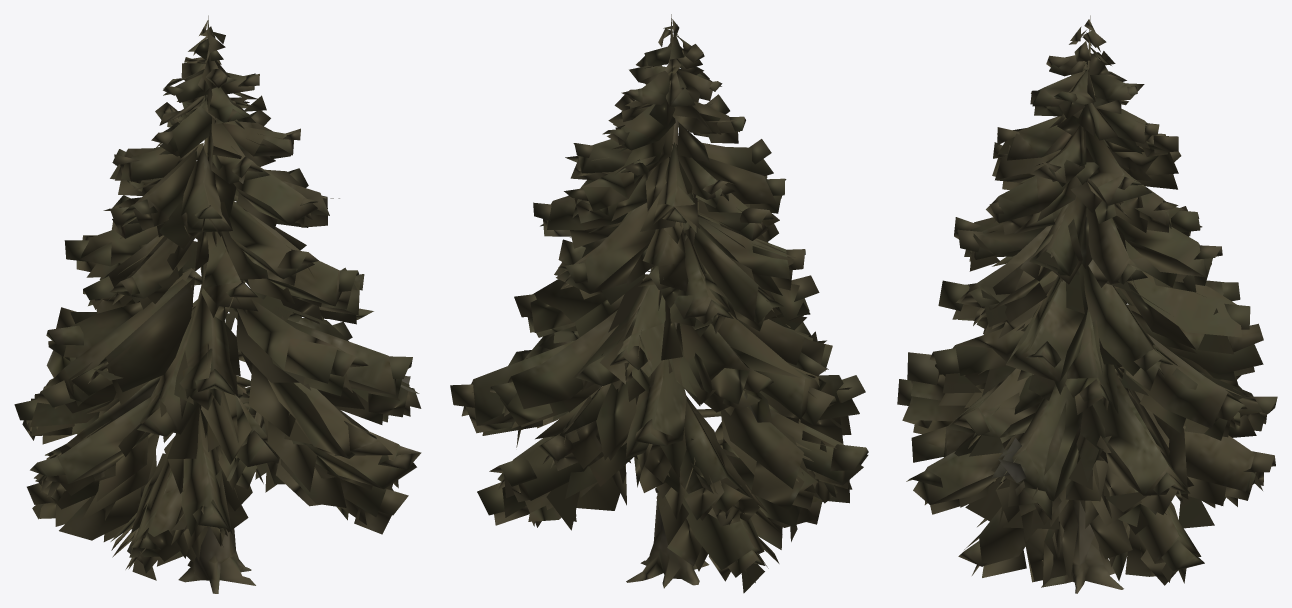
Rendered from x_tree_single_A.glb.
3 renders of one model, left to right at view 1: azimuth 30°, elevation 25°; view 2: azimuth 150°, elevation 25°; view 3: azimuth 270°, elevation 25°, orthographic.
Parts seen in each view (by area): view 1: x_tree_single_A; view 2: x_tree_single_A; view 3: x_tree_single_A.
Part boxes in pixels (box(x1,y1,x2,y2)): x_tree_single_A: box(14, 15, 421, 593); x_tree_single_A: box(450, 14, 868, 593); x_tree_single_A: box(897, 15, 1277, 593).
Bounding box in the file's own units: 0.8208 × 1.2 × 0.7341.
1 material, 1 textured.
